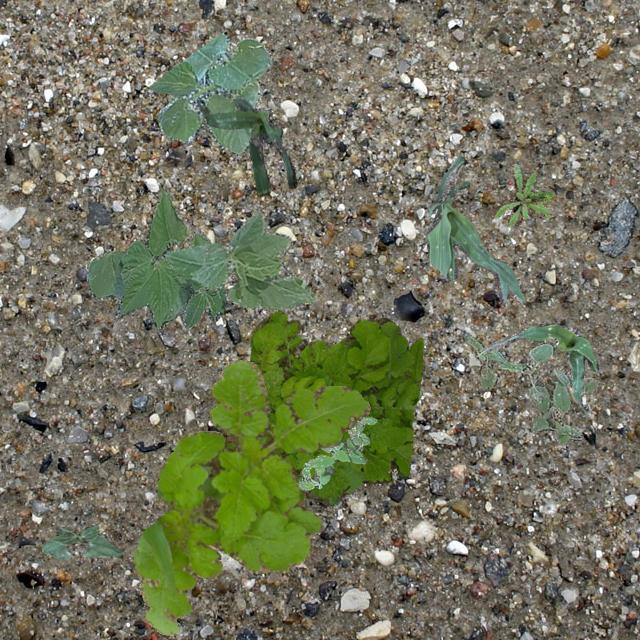crop: (86, 186, 224, 328), (424, 152, 524, 302), (164, 212, 314, 310), (148, 32, 270, 152), (480, 322, 598, 412), (198, 96, 296, 196), (42, 524, 122, 558)
weed: (132, 358, 370, 636), (225, 310, 422, 506), (463, 336, 595, 442), (296, 416, 376, 490), (486, 162, 554, 225)
